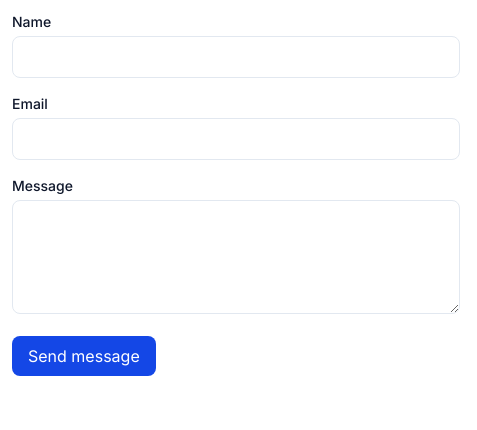
ContactForm › shows a validation error when submitted empty
The width and height of the screenshot is (477, 430).
Click the button "Send message" at (84, 356), box [12,336,156,376]
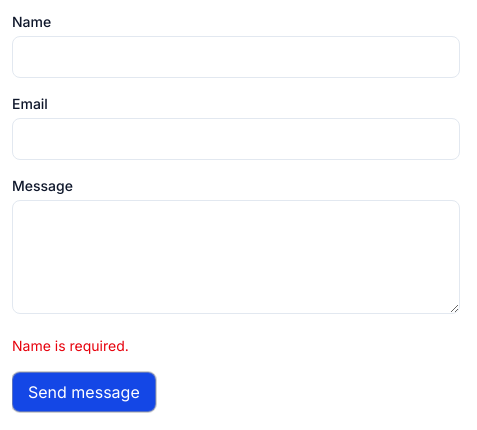
Result: the message shows "Name is required" at [12,337,129,354]
